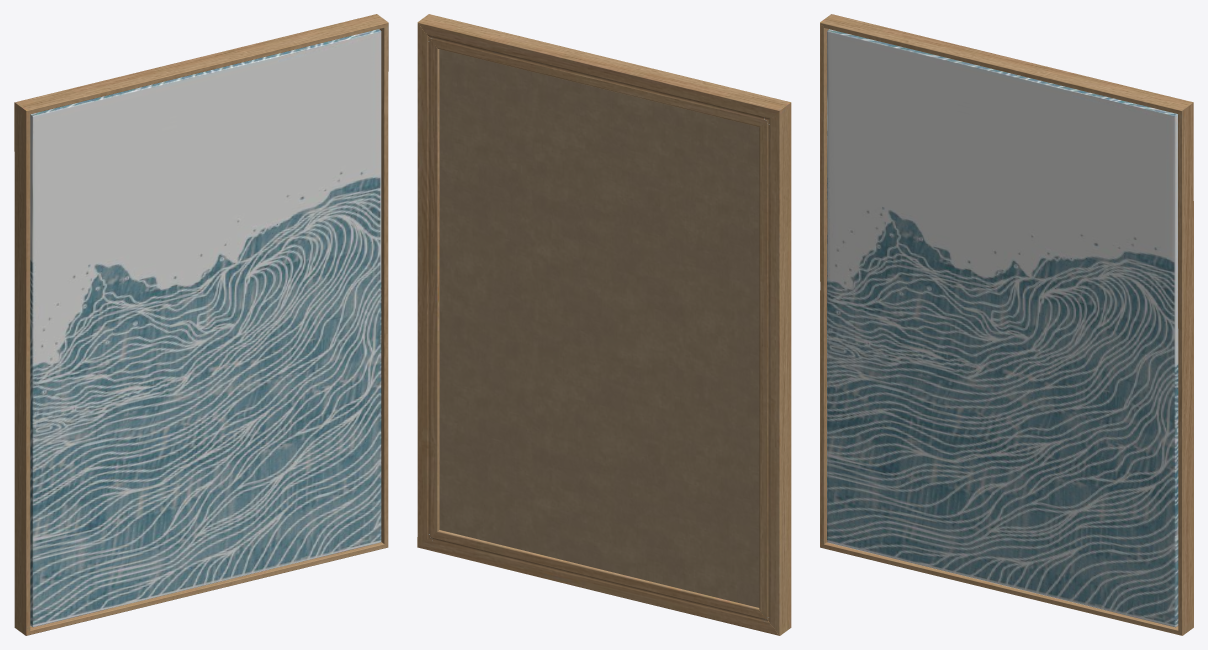
File: blodflader_obraz_80601917.glb
3 views of the same model, side by side, from view 1: azimuth 30°, elevation 25°; view 2: azimuth 150°, elevation 25°; view 3: azimuth 330°, elevation 25° (orthographic).
Visible parts, largest first — view 1: blodflader_obraz_80601917; view 2: blodflader_obraz_80601917; view 3: blodflader_obraz_80601917.
Part boxes in pixels (box(x1,y1,x2,y2)): blodflader_obraz_80601917: box(14, 14, 388, 635); blodflader_obraz_80601917: box(417, 14, 791, 635); blodflader_obraz_80601917: box(820, 14, 1193, 635).
Bounding box in the file's own units: 0.52 × 0.7204 × 0.0295.
Materials: 1 (1 with a texture image).
